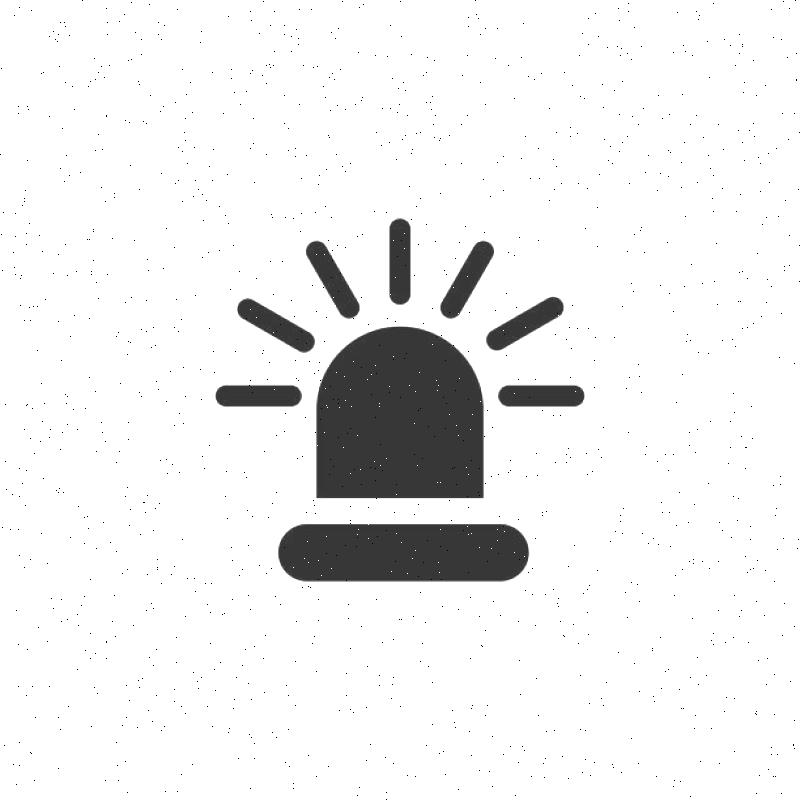AmbulanceSiren: (239, 247, 573, 621)
